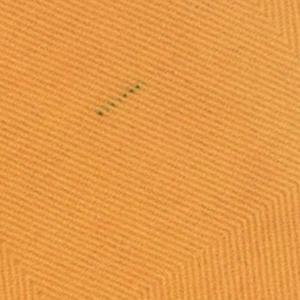stain: (96, 82, 142, 124)
